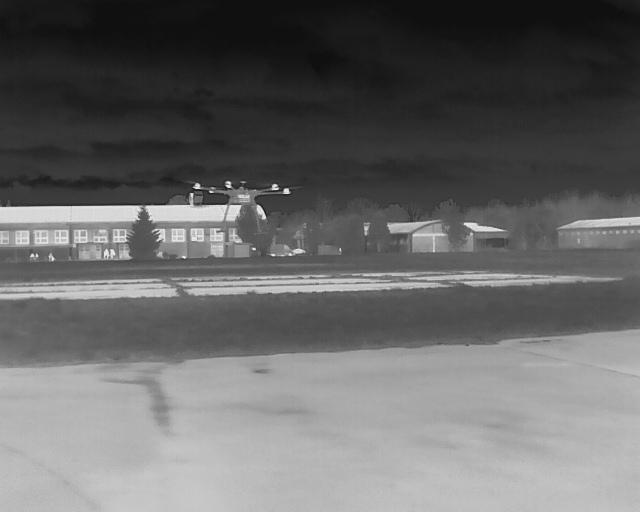drone: (178, 166, 308, 237)
